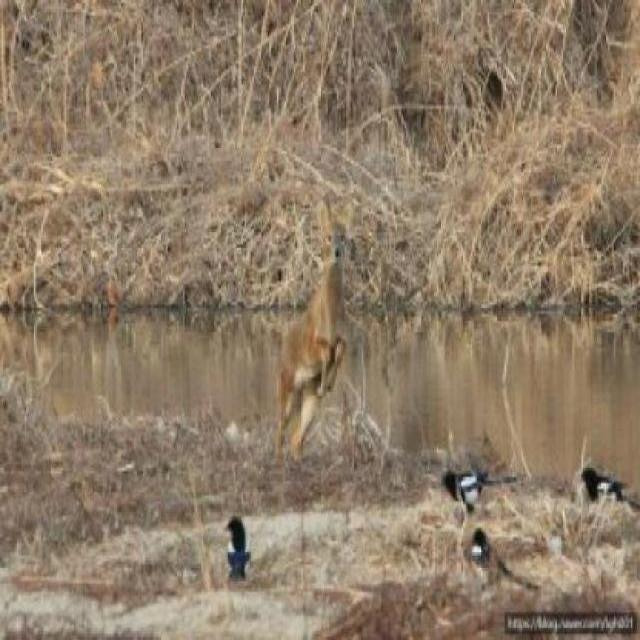deer: (246, 180, 362, 513)
